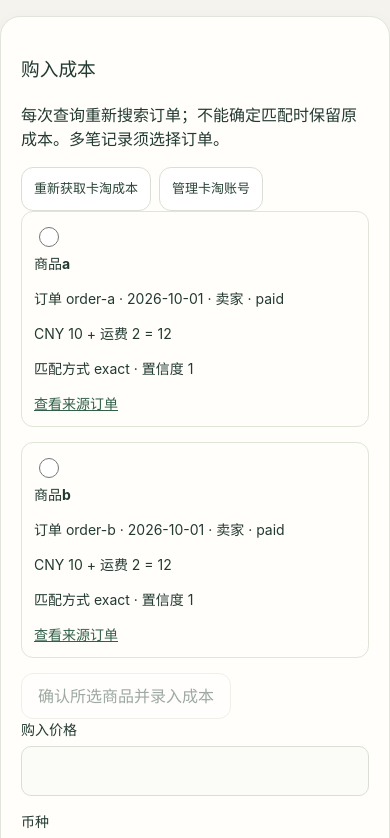
Test case: requires explicit eligible candidate selection before recording
Expected: the button "确认所选商品并录入成本" is disabled, top-left (21, 672), bottom-right (231, 718)
Click the 2nd radio button.
click(49, 468)  # box top-left (39, 458), bottom-right (59, 478)
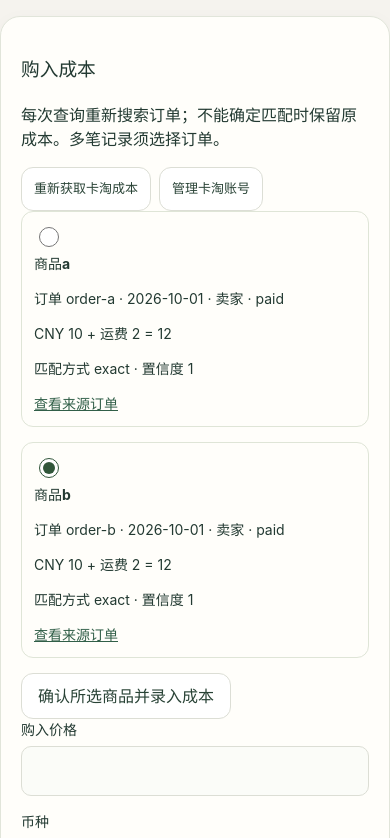
Click the button "确认所选商品并录入成本".
click(126, 696)  # box top-left (21, 672), bottom-right (231, 718)
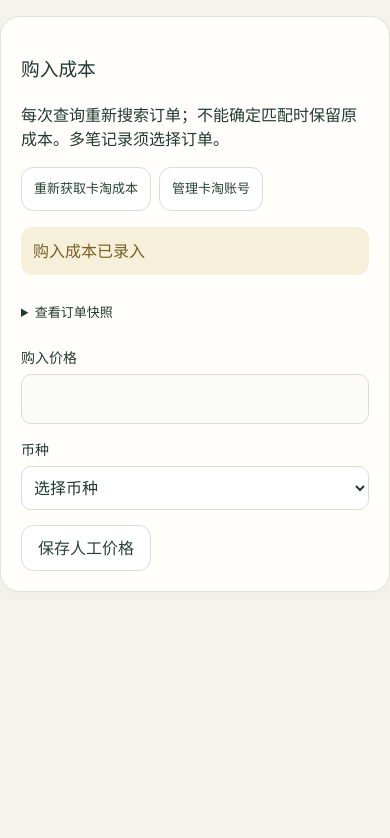
Expected: the text "购入成本已录入" is shown, top-left (21, 226), bottom-right (369, 274)
